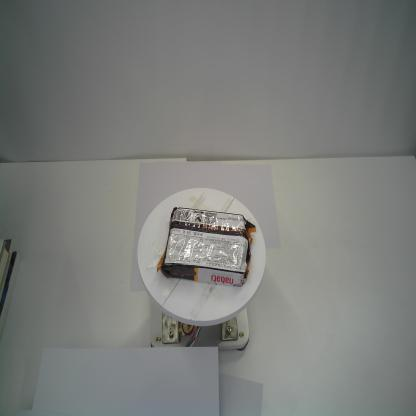Dessert: (154, 204, 257, 288)
